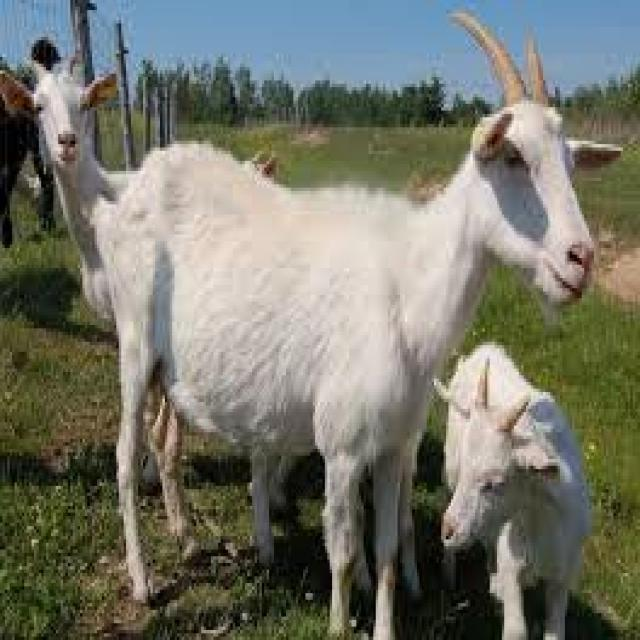goat: (107, 10, 618, 637), (436, 342, 587, 637), (0, 64, 128, 315)
